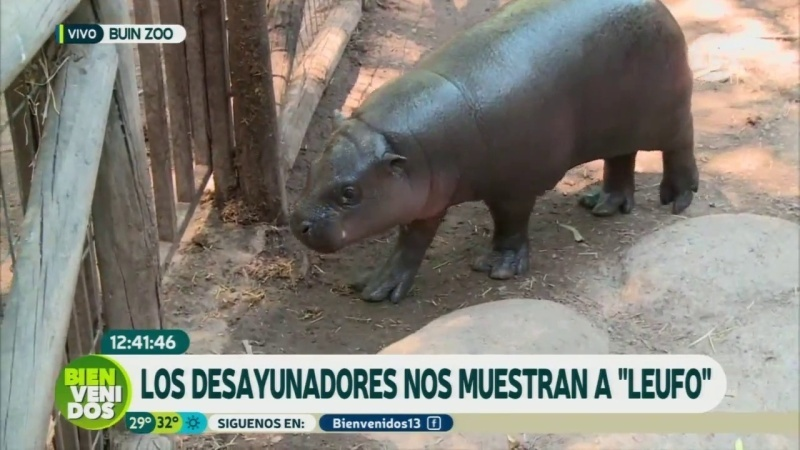hipopotamo: (275, 1, 734, 319)
